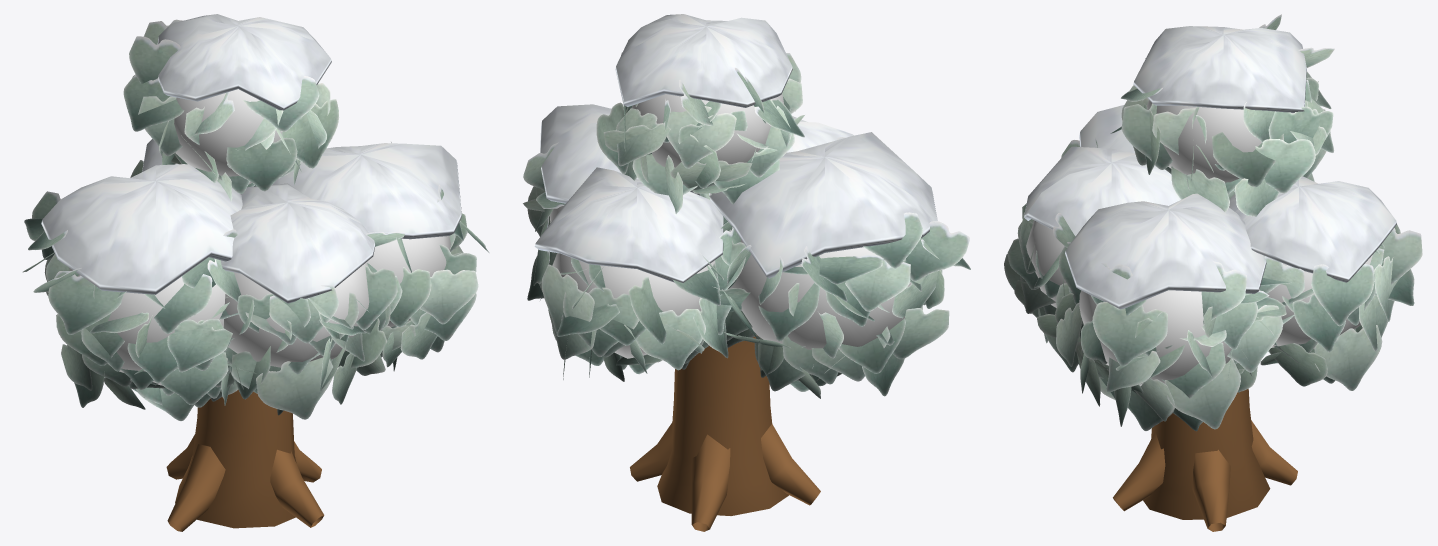
Rendered from tree-round-winter.glb.
3 renders of one model, left to right at view 1: azimuth 30°, elevation 25°; view 2: azimuth 150°, elevation 25°; view 3: azimuth 270°, elevation 25°, orthographic. The views are drawn at different scales.
Visible parts, largest first — view 1: Crown, Trunk, Hull; view 2: Crown, Trunk, Hull; view 3: Crown, Trunk, Hull.
Part boxes in pixels (left/top/right/bottom): Crown: left=22, top=14, right=489, bottom=420; Trunk: left=166, top=389, right=324, bottom=531; Hull: left=69, top=89, right=450, bottom=385; Crown: left=523, top=14, right=970, bottom=398; Trunk: left=630, top=335, right=820, bottom=531; Hull: left=549, top=93, right=911, bottom=358; Crown: left=1004, top=14, right=1422, bottom=431; Trunk: left=1113, top=389, right=1297, bottom=531; Hull: left=1026, top=100, right=1372, bottom=386.
Size of the model in its own units: 2.77 by 2.87 by 2.37.
Materials: 4 (1 with a texture image).
